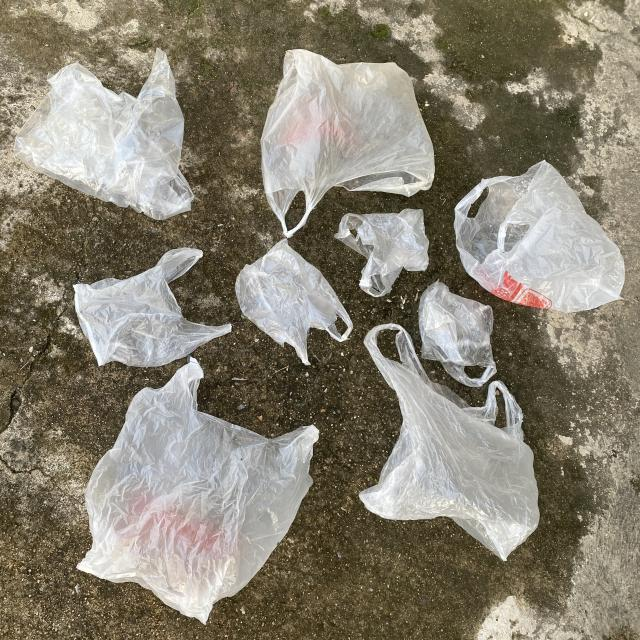Single-layer Plastic: (78, 359, 319, 624), (359, 324, 540, 560), (261, 49, 435, 238), (14, 49, 194, 220), (454, 161, 625, 312), (74, 248, 231, 368), (235, 239, 352, 365), (335, 209, 429, 298), (419, 281, 496, 388)
